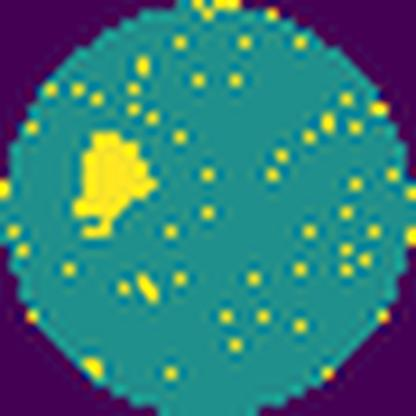Loc: (70, 130, 156, 242)
